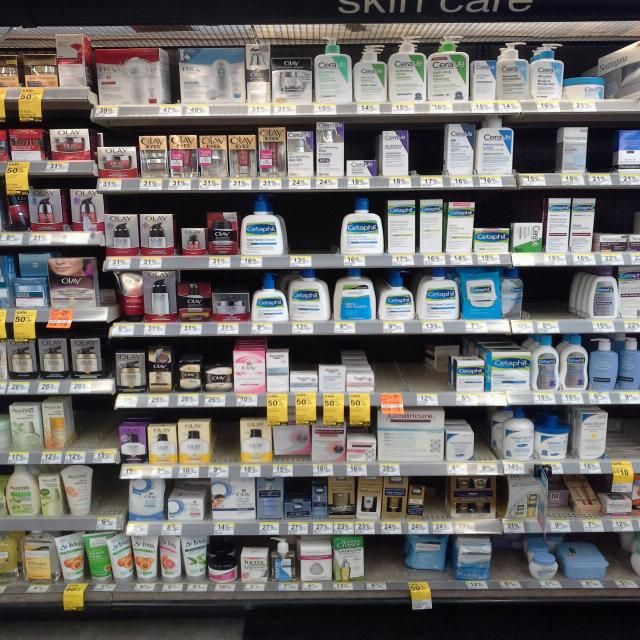unorganised: (94, 46, 180, 107), (83, 531, 133, 583), (407, 535, 451, 579), (273, 419, 312, 464), (158, 536, 182, 580)
